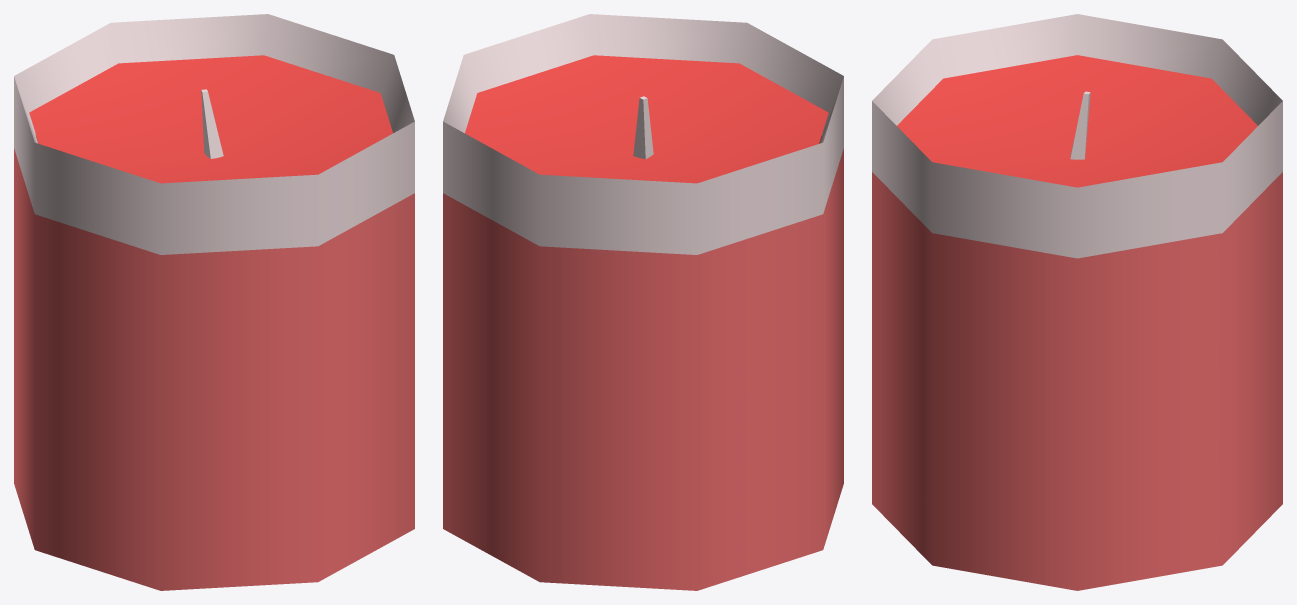
File: prop_007.glb
3 renders of one model, left to right at view 1: azimuth 30°, elevation 25°; view 2: azimuth 150°, elevation 25°; view 3: azimuth 270°, elevation 25°, orthographic.
Parts seen in each view (by area): view 1: prop_007; view 2: prop_007; view 3: prop_007.
Part boxes in pixels (x1,y1,x2,y2): prop_007: (14, 14, 414, 590); prop_007: (443, 14, 843, 590); prop_007: (872, 14, 1282, 590).
Bounding box in the file's own units: 0.0908 × 0.0997 × 0.0908.
1 material, 1 textured.
